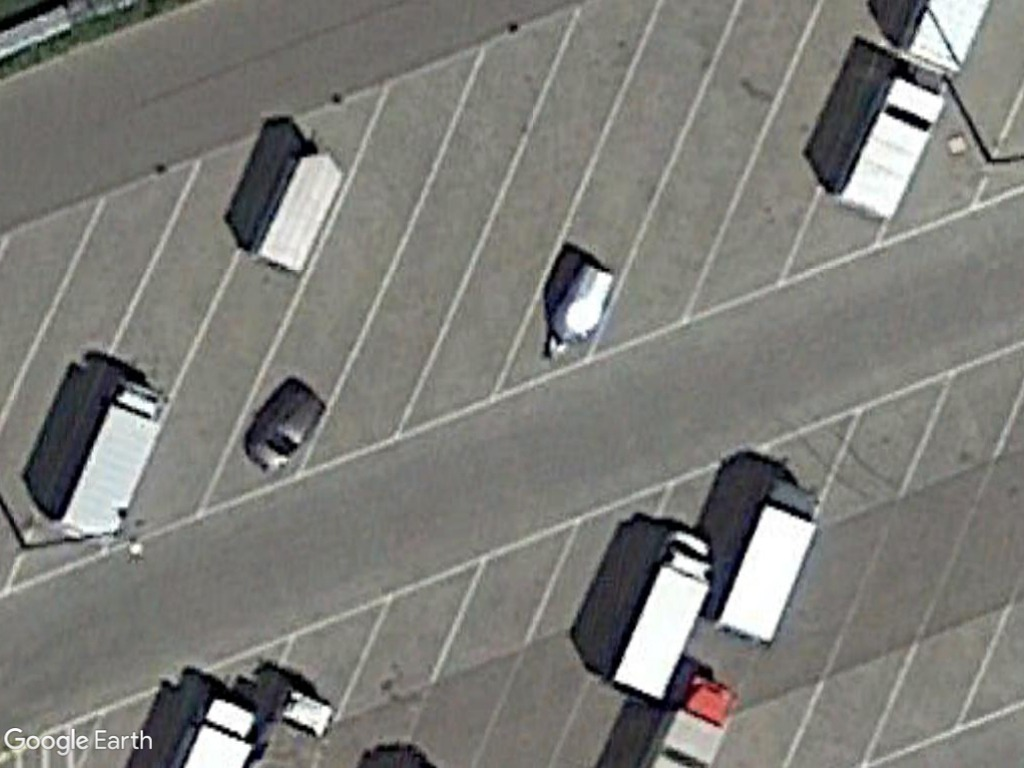truck: (52, 372, 178, 545), (603, 523, 713, 705), (713, 475, 822, 648)
